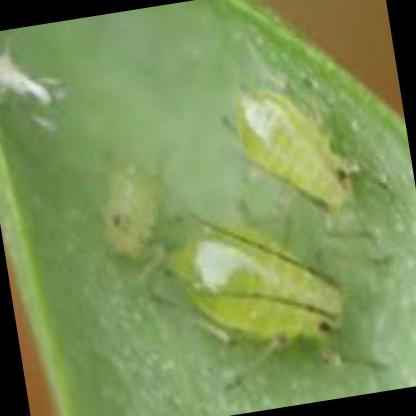schizaphis graminum: (164, 223, 342, 375), (221, 90, 356, 221)
